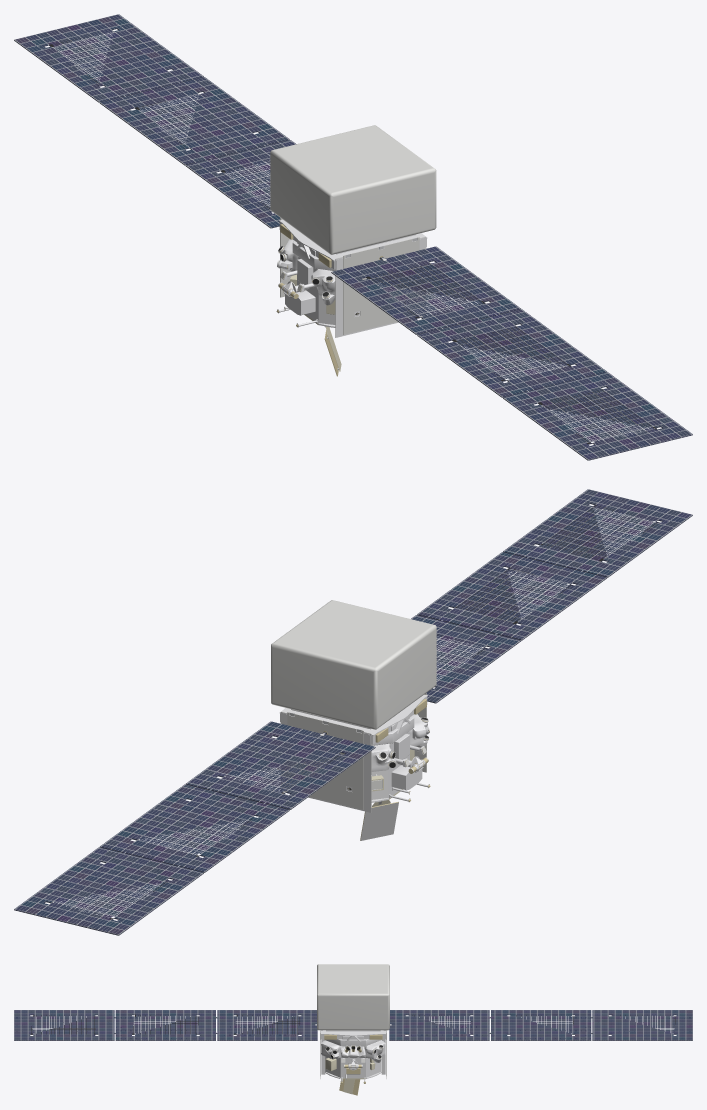
File: fermi.glb
3 views of the same model, one above another, from view 1: azimuth 30°, elevation 25°; view 2: azimuth 150°, elevation 25°; view 3: azimuth 270°, elevation 25° (orthographic). The views are drawn at different scales.
Visible parts, largest first — view 1: Layer_1, Layer_2, Layer_0; view 2: Layer_1, Layer_2, Layer_0; view 3: Layer_1, Layer_2, Layer_0.
Boxes of the visible parts, x1,y1,x2,y2 form: Layer_1: (14, 14, 692, 460); Layer_2: (270, 125, 436, 254); Layer_0: (276, 218, 429, 376); Layer_1: (14, 489, 692, 935); Layer_2: (271, 600, 436, 729); Layer_0: (277, 693, 430, 840); Layer_1: (14, 1010, 692, 1040); Layer_2: (317, 964, 389, 1030); Layer_0: (320, 1030, 386, 1095).
Bounding box in the file's own units: 2.06 × 2.91 × 15.
8 materials, 1 textured.
